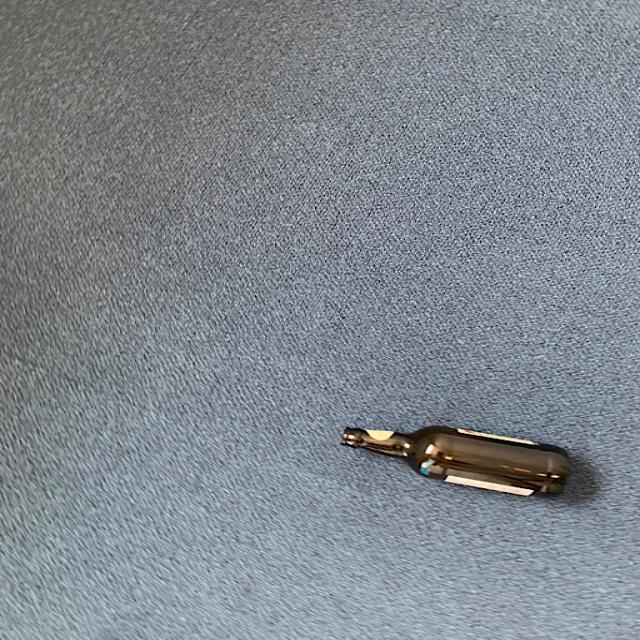Glass Bottle: (342, 423, 578, 503)
